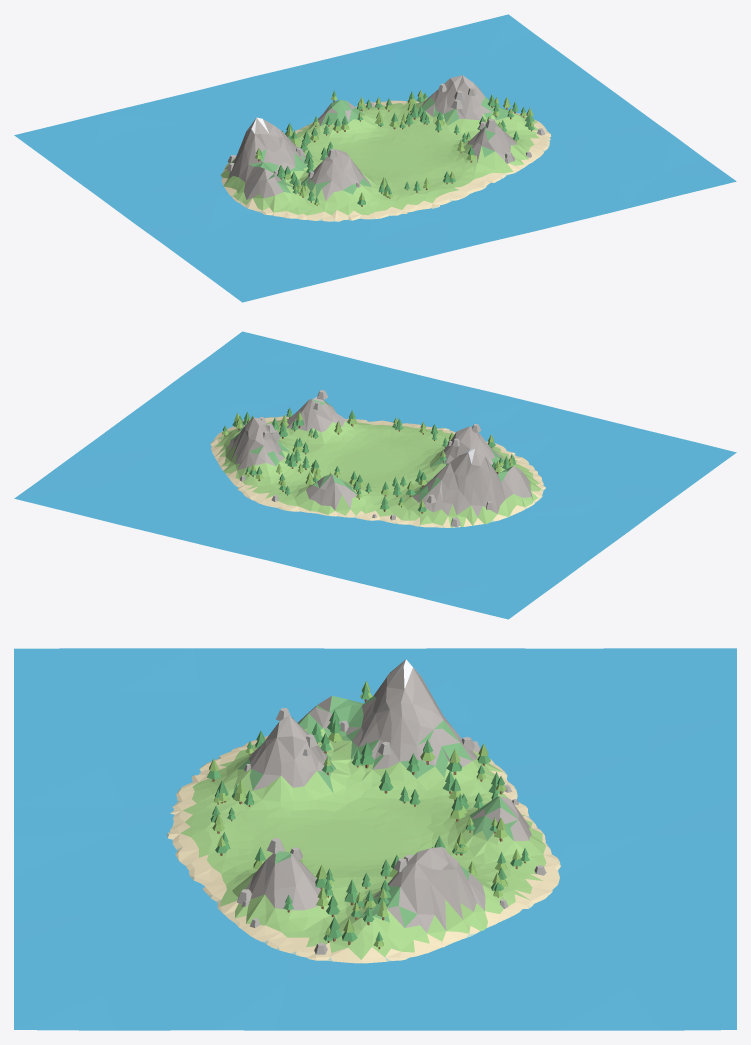
File: island.glb
3 renders of one model, top to bottom at view 1: azimuth 30°, elevation 25°; view 2: azimuth 150°, elevation 25°; view 3: azimuth 270°, elevation 25°, orthographic. The views are drawn at different scales.
Visible parts, largest first — view 1: LowPolyIsland_Water, LowPolyIsland, LowPolyIsland_Trees; view 2: LowPolyIsland_Water, LowPolyIsland, LowPolyIsland_Trees; view 3: LowPolyIsland_Water, LowPolyIsland, LowPolyIsland_Trees.
Boxes of the visible parts, box(x1,y1,x2,y2) form: LowPolyIsland_Water: box(14, 14, 736, 302); LowPolyIsland: box(221, 75, 551, 221); LowPolyIsland_Trees: box(226, 83, 545, 206); LowPolyIsland_Water: box(14, 331, 736, 619); LowPolyIsland: box(210, 396, 545, 527); LowPolyIsland_Trees: box(222, 390, 515, 527); LowPolyIsland_Water: box(14, 648, 736, 1030); LowPolyIsland: box(167, 659, 560, 963); LowPolyIsland_Trees: box(207, 681, 546, 954).
Bounding box in the file's own units: 260 × 37.41 × 208.
